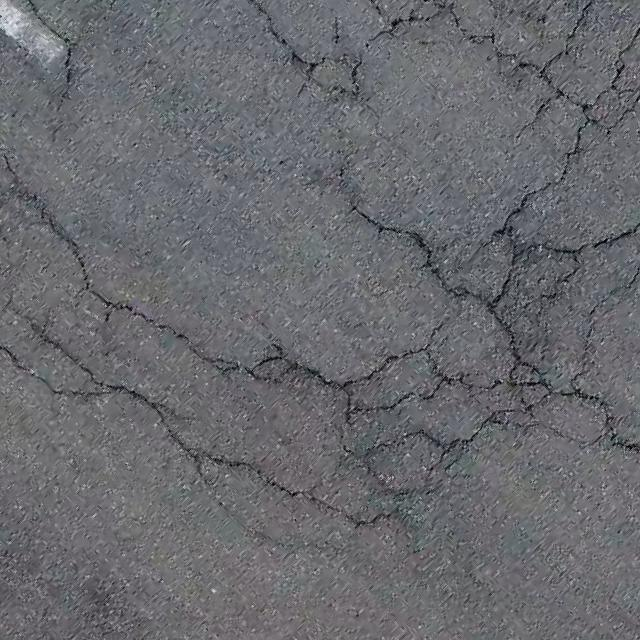GRIETA: (20, 188, 91, 288), (37, 19, 74, 111), (2, 154, 23, 187)
PIEL DE COCODRILO: (0, 0, 639, 554)
